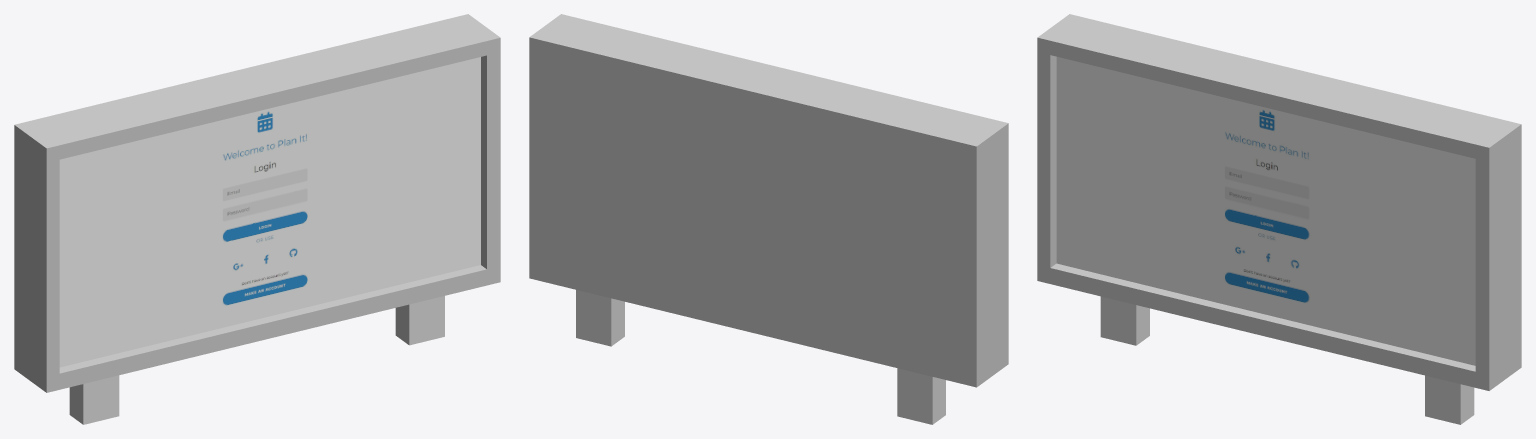
3 views of the same model, side by side, from view 1: azimuth 30°, elevation 25°; view 2: azimuth 150°, elevation 25°; view 3: azimuth 330°, elevation 25° (orthographic).
Parts seen in each view (by area): view 1: plan-it, Cube.002, Cube, Cube.001; view 2: Cube.002, Cube, Cube.001; view 3: plan-it, Cube.002, Cube, Cube.001.
Part boxes in pixels (box(x1,y1,x2,y2)): plan-it: box(59, 57, 480, 367); Cube.002: box(14, 14, 500, 392); Cube: box(69, 375, 119, 424); Cube.001: box(395, 296, 444, 345); Cube.002: box(529, 14, 1008, 387); Cube: box(897, 368, 945, 424); Cube.001: box(576, 290, 624, 346); plan-it: box(1056, 56, 1475, 365); Cube.002: box(1037, 14, 1521, 390); Cube: box(1100, 296, 1149, 345); Cube.001: box(1425, 375, 1474, 424).
Bounding box in the file's own units: 5.53 × 3.47 × 0.6827.
4 materials, 1 textured.
